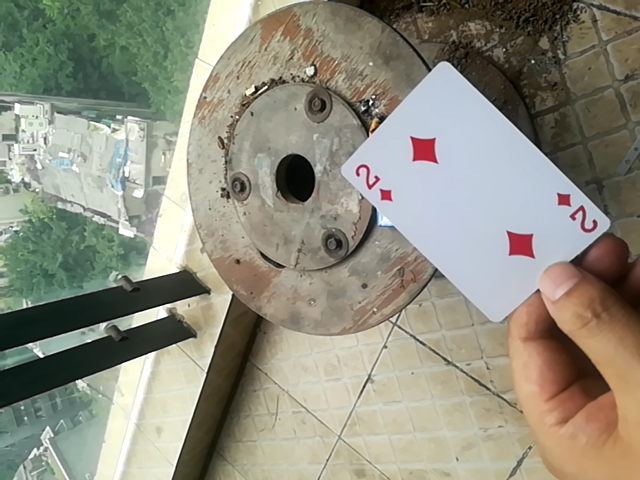fk 2: (329, 58, 611, 331)
